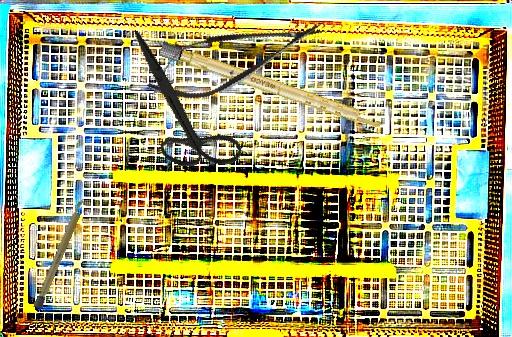Iris Scissors: (89, 30, 270, 188)
Micro Scissor: (138, 0, 333, 114)
Scalpel Handle: (158, 41, 387, 132), (32, 196, 89, 311)
